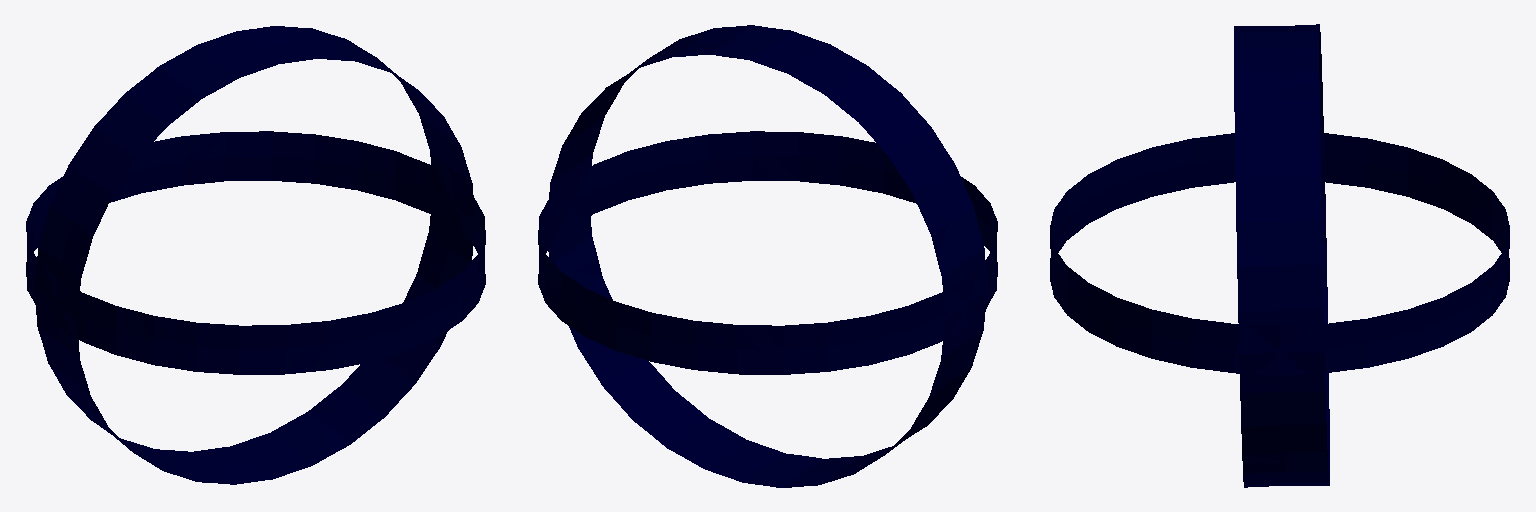
The model's file is ring.obj.
3 renders of one model, left to right at view 1: azimuth 30°, elevation 25°; view 2: azimuth 150°, elevation 25°; view 3: azimuth 270°, elevation 25°, orthographic.
Parts seen in each view (by area): view 1: Sphere.001, Sphere; view 2: Sphere.001, Sphere; view 3: Sphere.001, Sphere.
Boxes of the visible parts, x1,y1,x2,y2 form: Sphere.001: [34, 26, 473, 484]; Sphere: [26, 131, 485, 374]; Sphere.001: [548, 25, 987, 487]; Sphere: [538, 131, 997, 374]; Sphere.001: [1234, 24, 1329, 487]; Sphere: [1050, 133, 1509, 374].
Bounding box in the file's own units: 10.07 × 10.14 × 10.07.